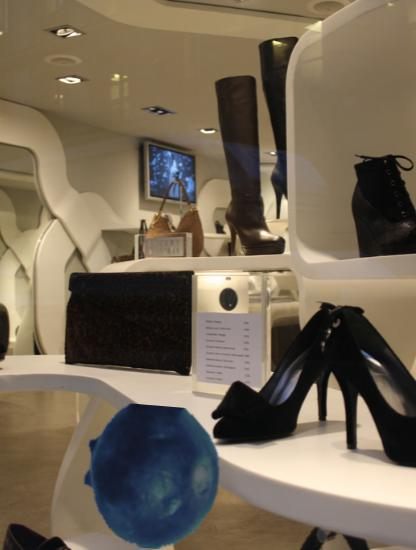Huckleberry: (80, 405, 224, 549)
